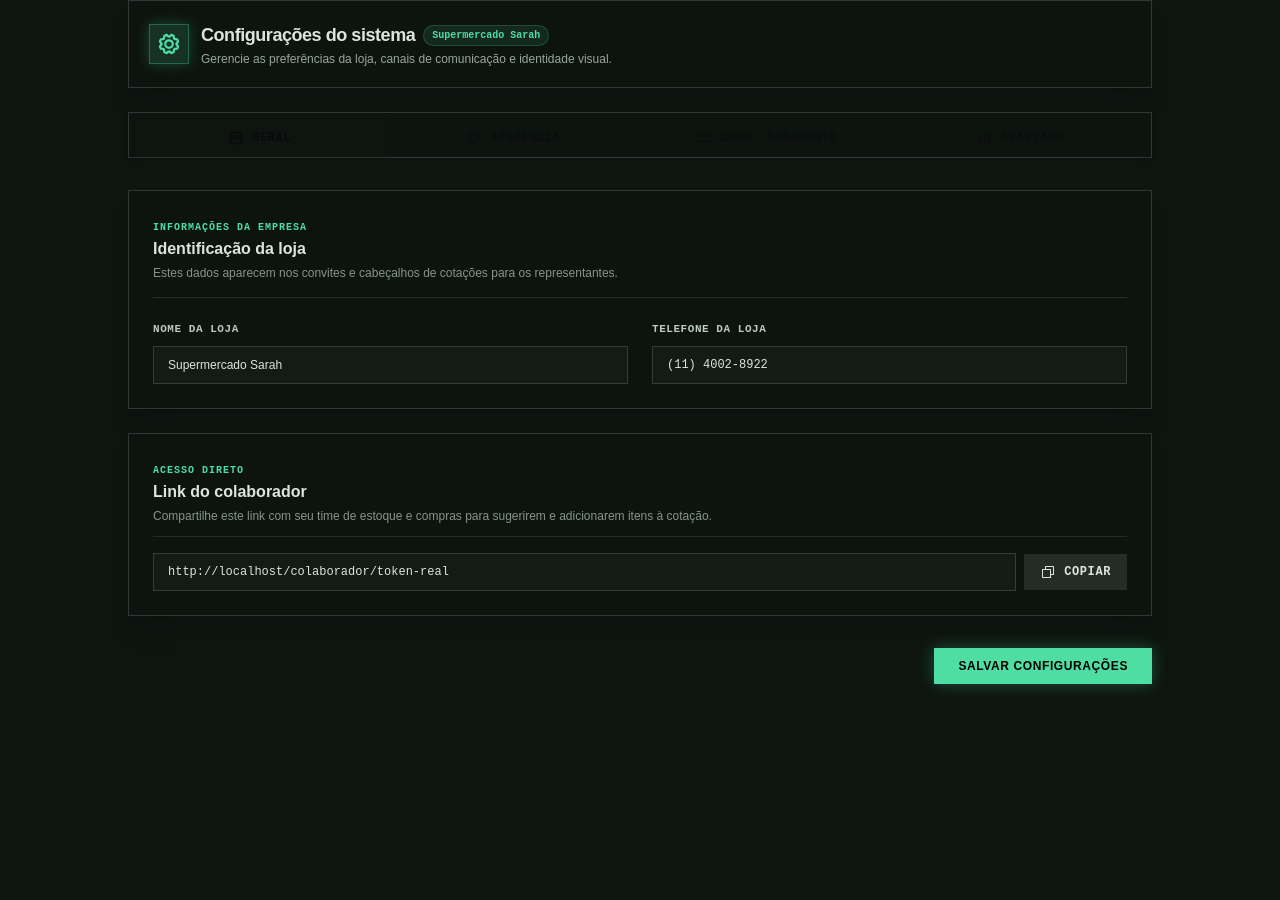
Scenario: falha ao salvar exibe a mensagem via toast e mantém os valores anteriores
Replace the text in the field labelled "Nome da loja" with "Outro Nome" at (390, 365), box [153,346,628,384]
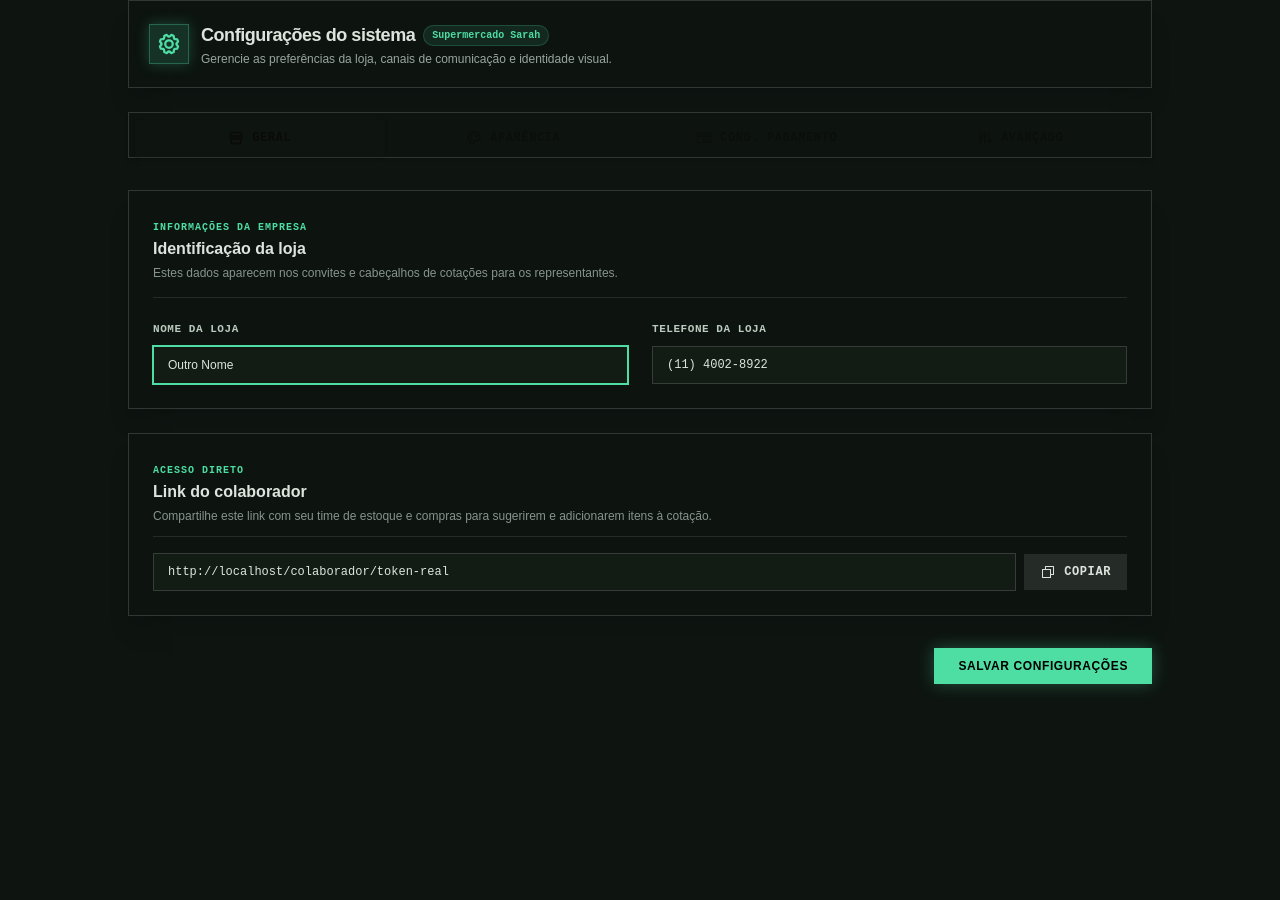
Click the button "Salvar configurações" at (1043, 666), box [934,648,1152,684]
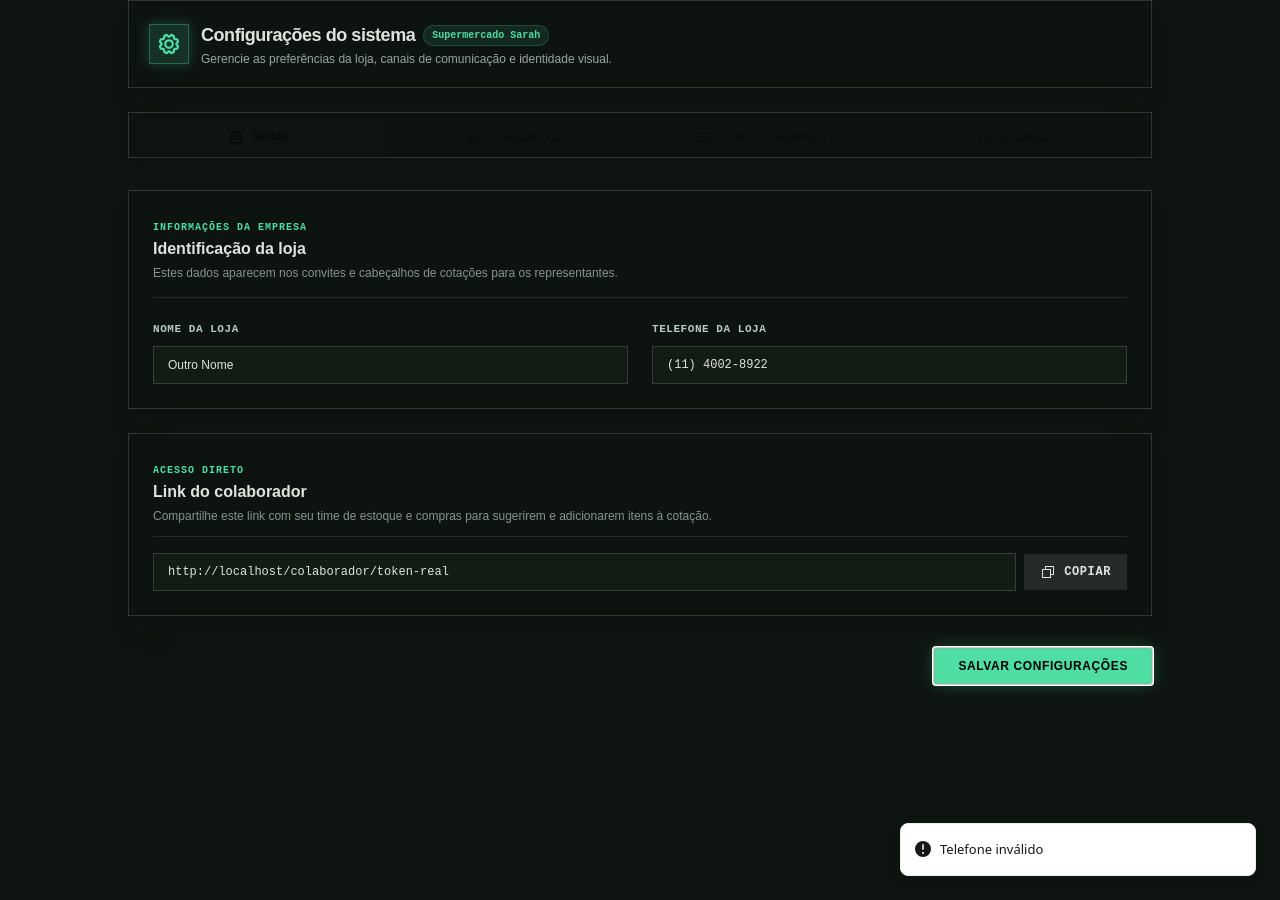
Check: the text "Telefone inválido" is shown, box [940,840,1043,859]
